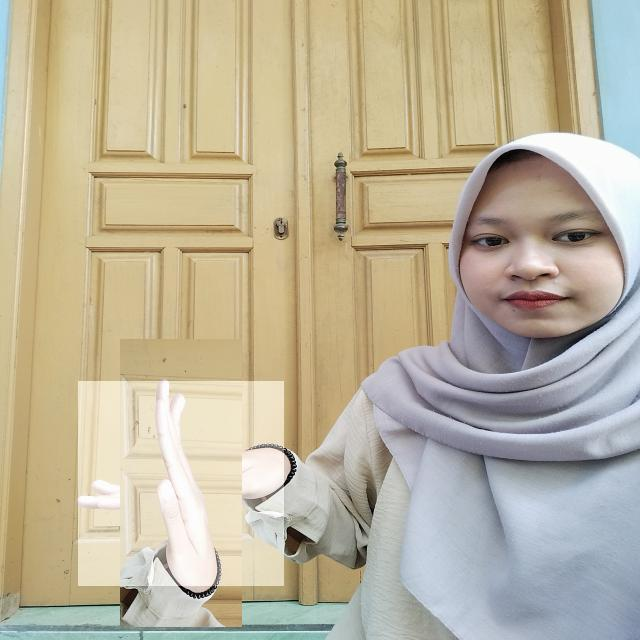adik: (78, 381, 284, 586)
